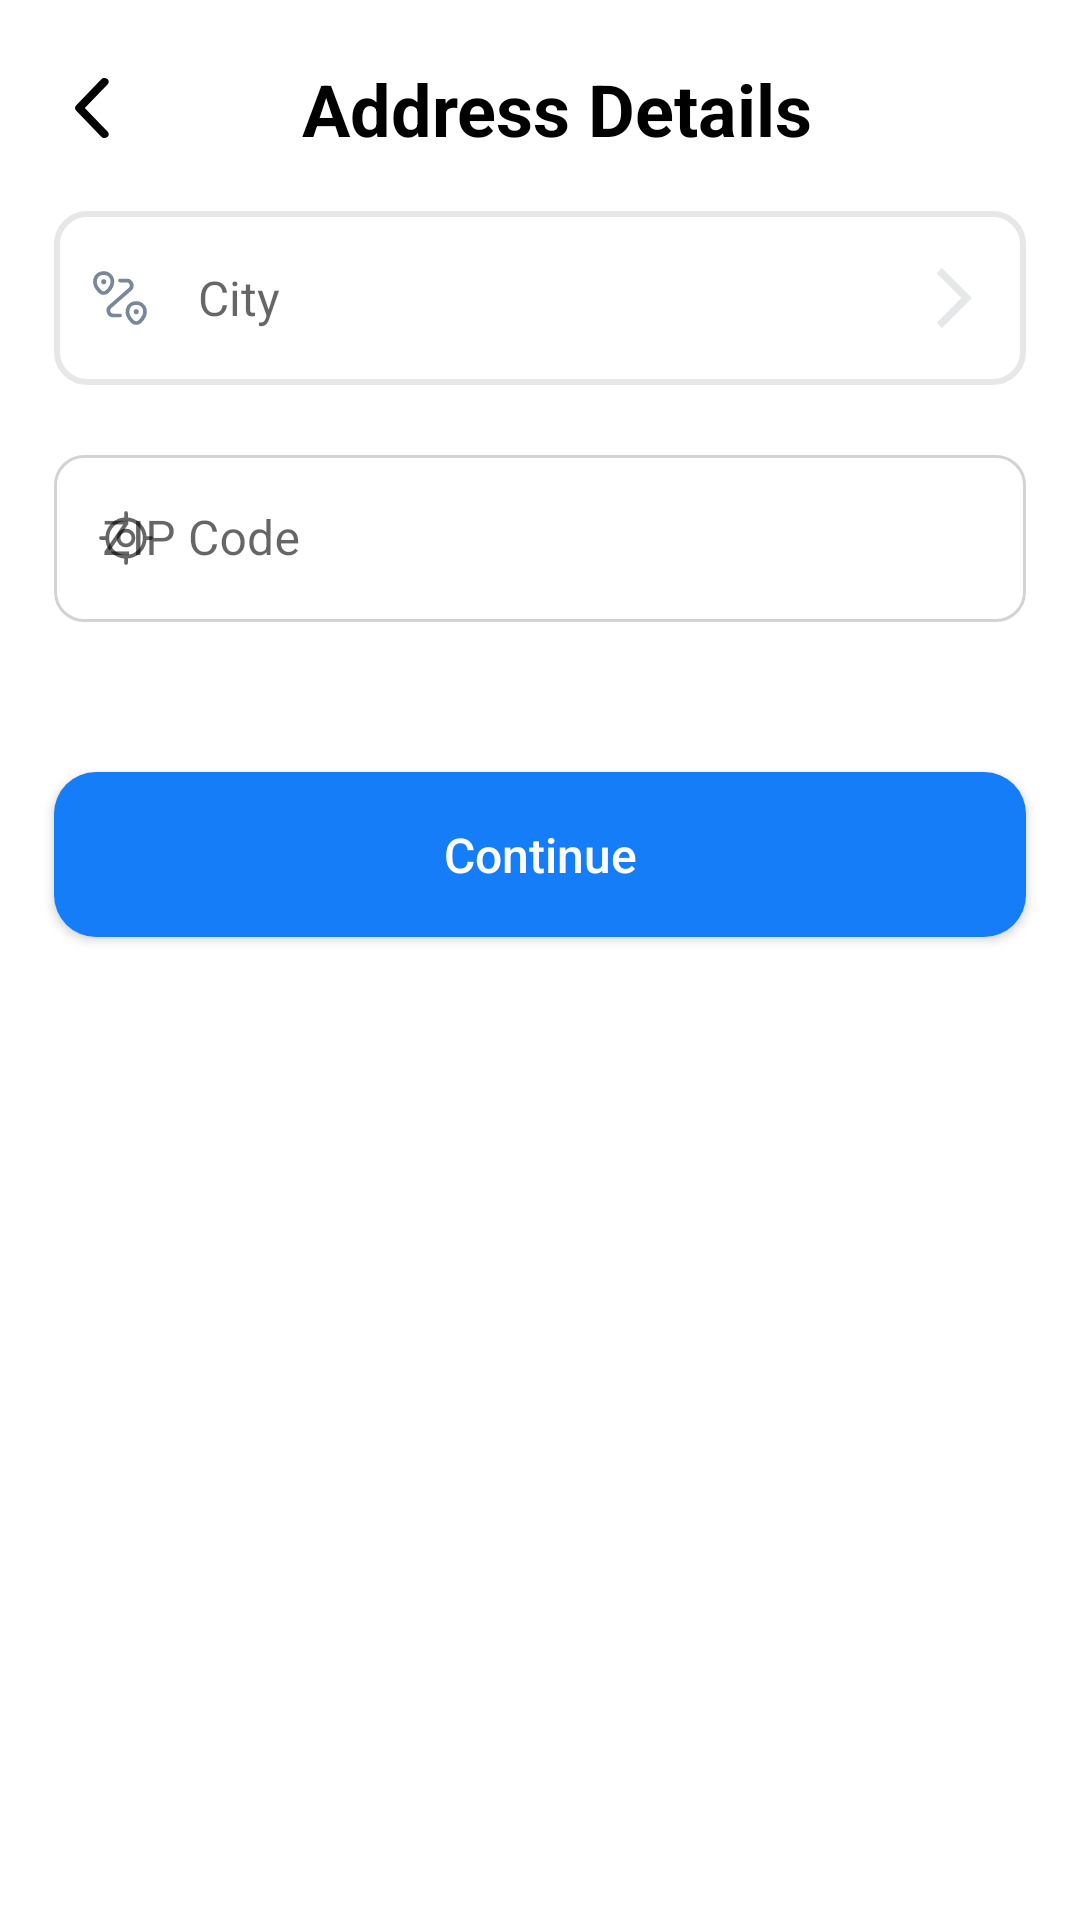

Icon bounding boxes for this 1080 x 1920 phone screenshot, format [x1=x1, y1=y1, x2=x2, y2=y2]:
back: [x1=75, y1=78, x2=109, y2=138]
